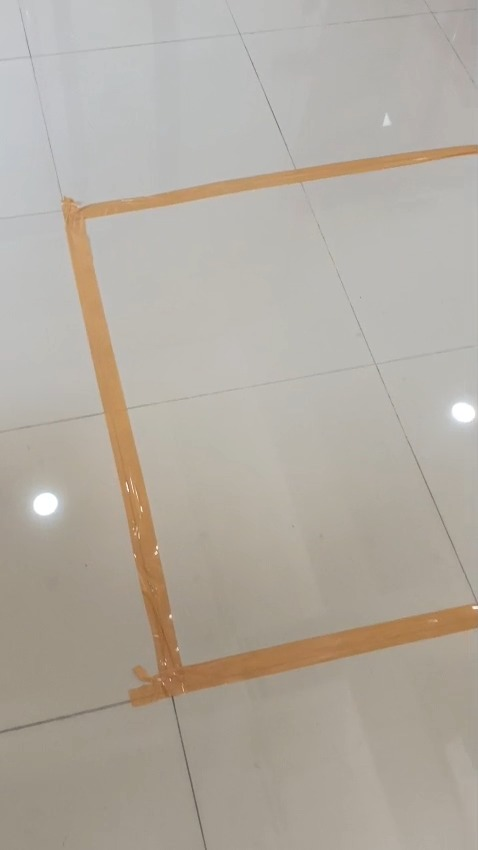floor marking: (63, 146, 477, 705)
